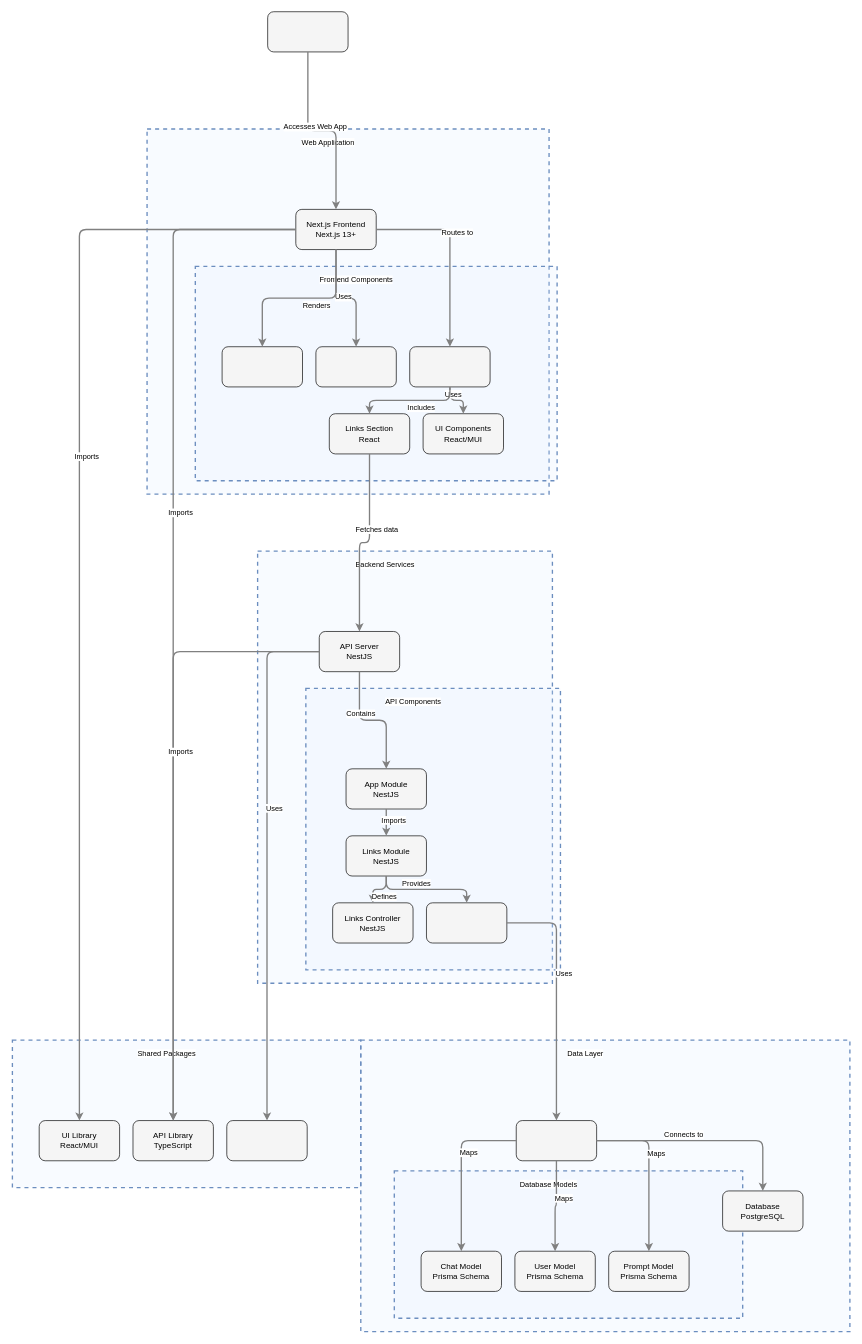
This 862x1344 diagram has some shape labels left out. Each missing label, with the box of its shape:
Database Client Prisma: (516, 1120, 597, 1161)
Database Library Prisma: (226, 1120, 307, 1161)
External User: (267, 11, 348, 52)
Links Service NestJS: (426, 902, 507, 943)
Pages Router Next.js: (409, 346, 490, 387)
Root Layout Next.js: (221, 346, 303, 387)
Theme Provider MUI: (315, 346, 396, 387)
